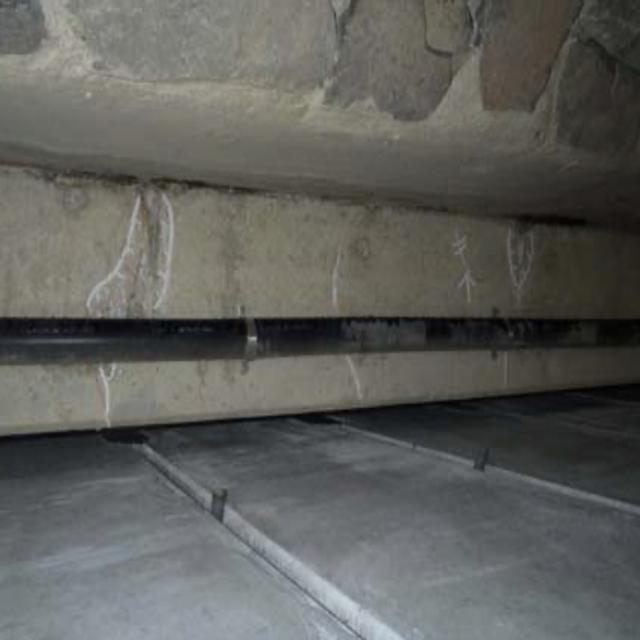spalling: (344, 3, 639, 164), (106, 187, 177, 327)
